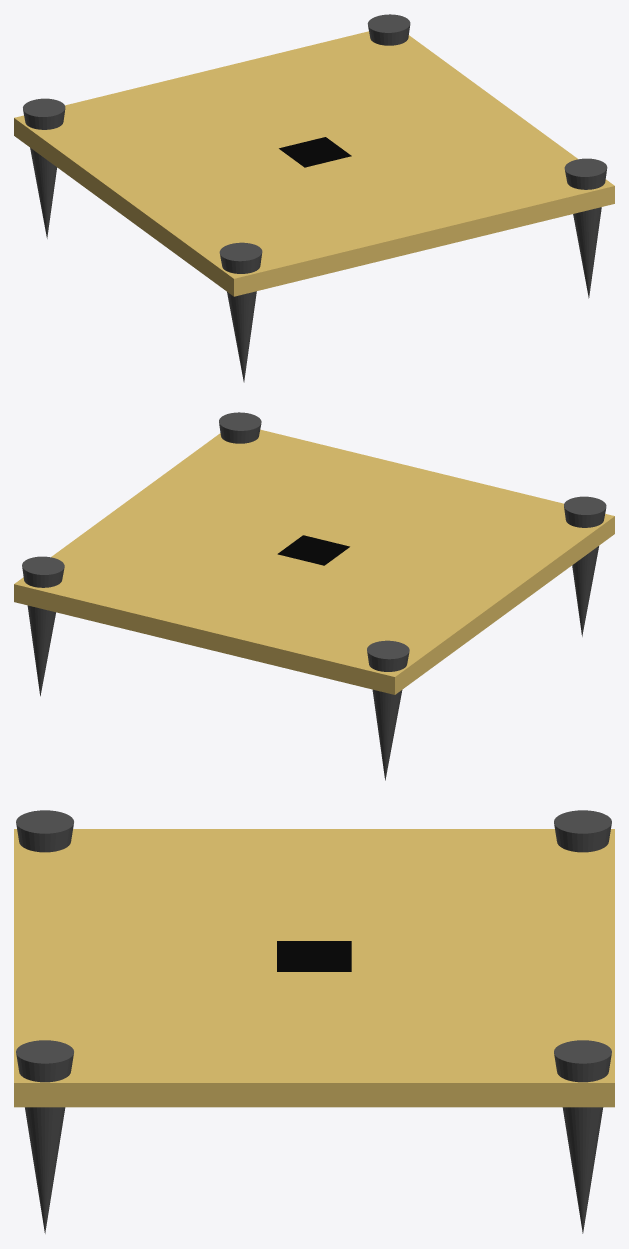
File: Charcoal Pit.fbx
The picture shows the model from 3 angles, top to bottom: view 1: azimuth 30°, elevation 25°; view 2: azimuth 150°, elevation 25°; view 3: azimuth 270°, elevation 25°; orthographic projection. The views are drawn at different scales.
Parts seen in each view (by area): view 1: Cube, Конус.003, Конус, Конус.002, Куб, Конус.001; view 2: Cube, Конус.002, Конус.001, Конус.003, Куб, Конус; view 3: Cube, Конус, Конус.001, Куб, Конус.003, Конус.002.
Part boxes in pixels (x1=…): Cube: x1=14, y1=31, x2=614, y2=296; Конус.003: x1=219, y1=242, x2=262, y2=382; Конус: x1=564, y1=158, x2=607, y2=298; Конус.002: x1=23, y1=98, x2=65, y2=238; Куб: x1=279, y1=137, x2=351, y2=167; Конус.001: x1=367, y1=14, x2=410, y2=45; Cube: x1=14, y1=429, x2=614, y2=694; Конус.002: x1=367, y1=640, x2=409, y2=780; Конус.001: x1=22, y1=556, x2=64, y2=696; Конус.003: x1=564, y1=496, x2=606, y2=636; Куб: x1=277, y1=535, x2=349, y2=565; Конус: x1=219, y1=412, x2=261, y2=443; Cube: x1=14, y1=829, x2=614, y2=1107; Конус: x1=16, y1=1040, x2=73, y2=1233; Конус.001: x1=554, y1=1040, x2=611, y2=1233; Куб: x1=277, y1=941, x2=351, y2=971; Конус.003: x1=16, y1=810, x2=73, y2=852; Конус.002: x1=554, y1=810, x2=611, y2=852.
Size of the model in its own units: 604 by 201 by 602.
